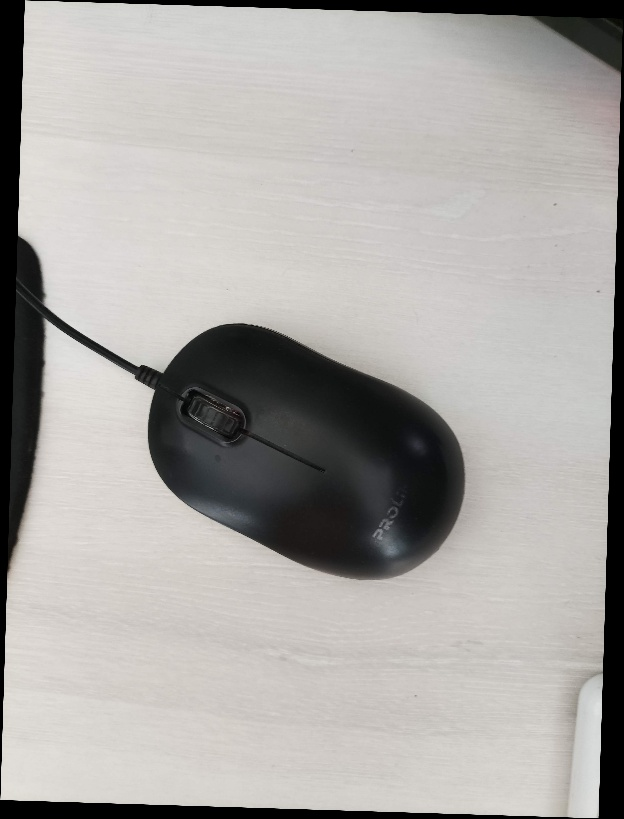mouse: (143, 318, 470, 583)
